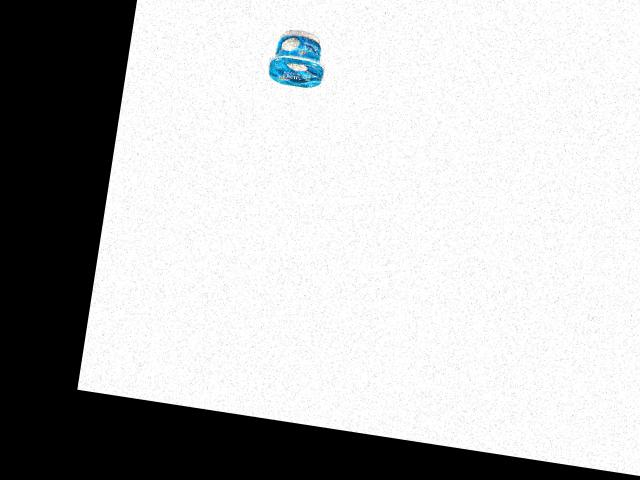cotage: (262, 26, 332, 92)
